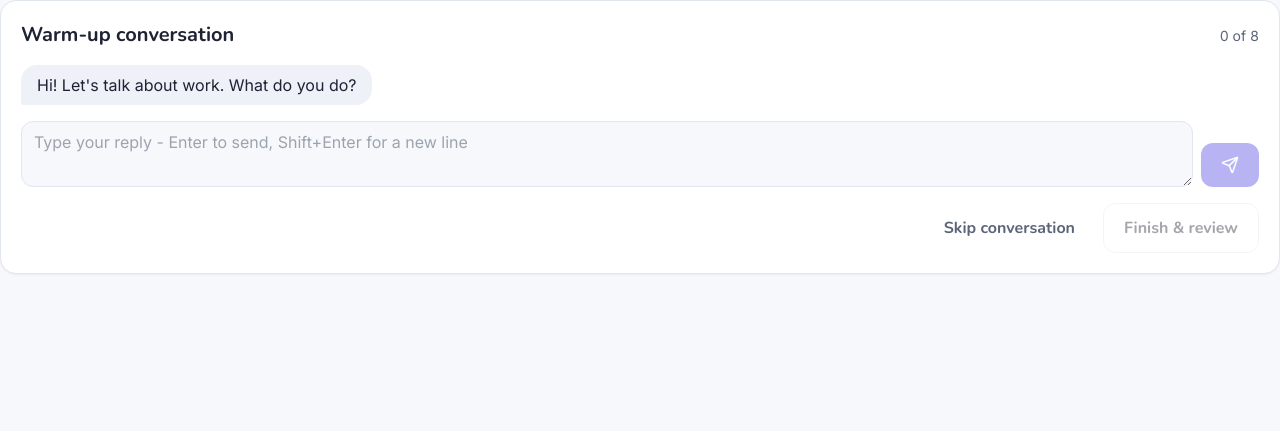
Test: ConversationPanel › shows a dropped connection as a notice, not as partner text
The image size is (1280, 431).
Type "Hello" into the text box named "Your message" at (607, 154), box [21,121,1193,187]
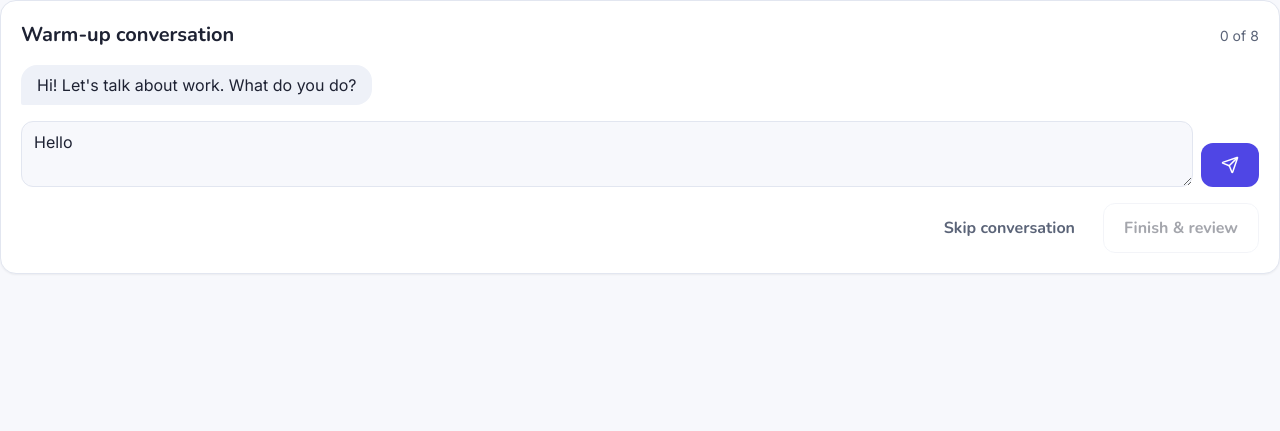
Press Enter in the text box named "Your message", box [21,121,1193,187]
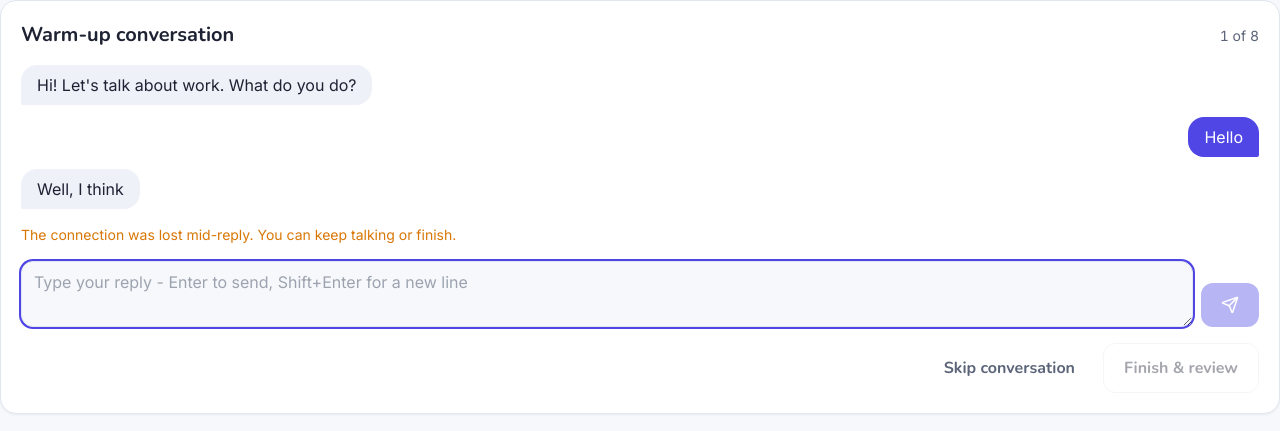
Check: the text box named "Your message" is enabled, box [21,261,1193,327]
Check: the text "Well, I think" is shown, box [21,169,140,209]
Check: the message shows "connection was lost", box [21,226,456,243]
